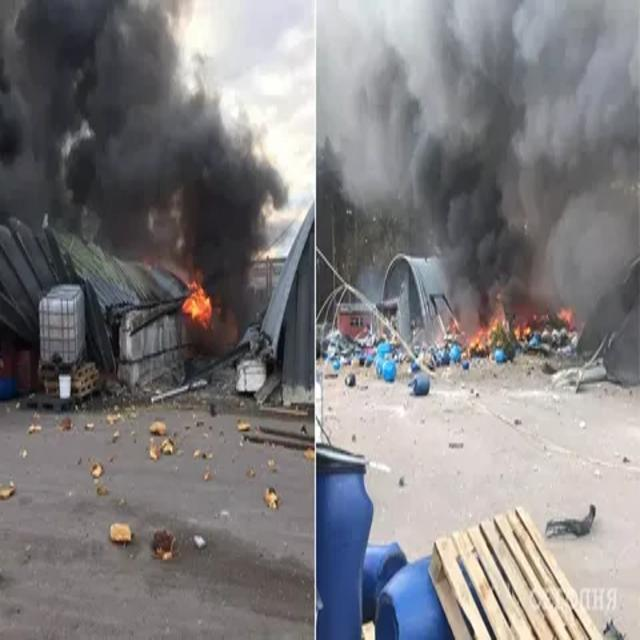Smoke: (318, 3, 640, 342), (0, 0, 287, 338)
